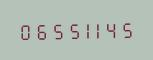five: (47, 20, 61, 40), (62, 20, 76, 40), (122, 19, 136, 38)
four: (107, 19, 121, 39)
one: (77, 19, 91, 39), (92, 19, 106, 39)
six: (32, 20, 46, 40)
zero: (17, 21, 31, 40)
